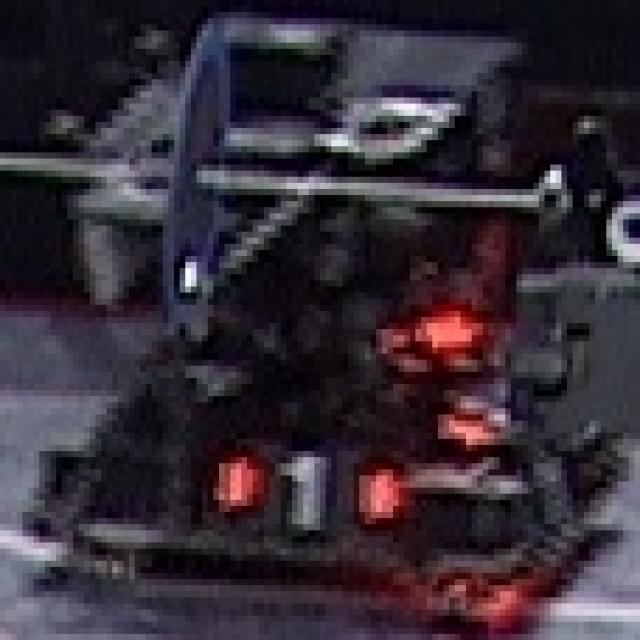R1: (202, 445, 404, 530)
